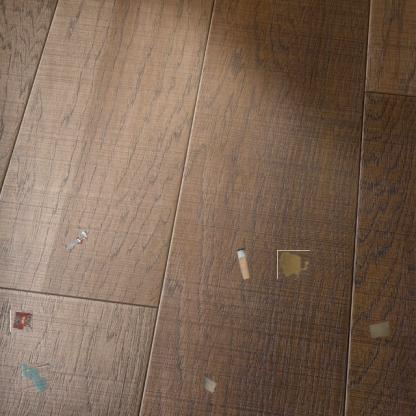dirty: (236, 246, 252, 282), (62, 228, 88, 250), (10, 310, 33, 332), (368, 320, 390, 338), (200, 372, 218, 394)
liquid: (278, 249, 309, 280), (22, 363, 51, 392)
